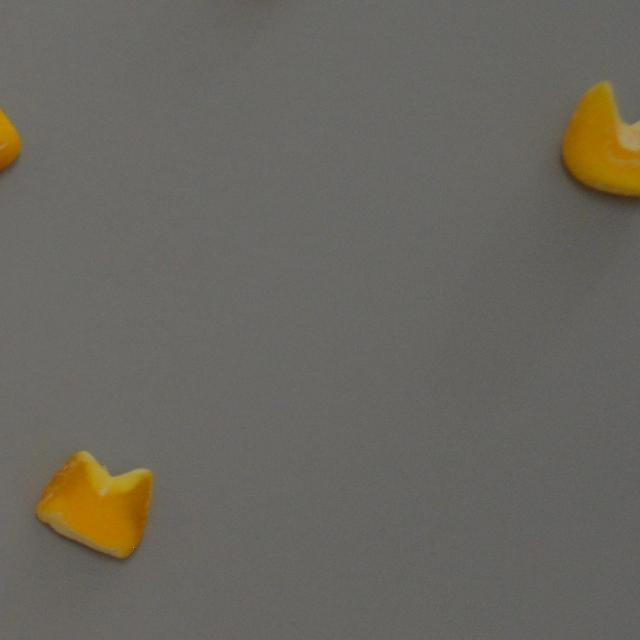dañado: (32, 444, 155, 566), (0, 88, 26, 190)
pelicula: (555, 74, 640, 200)
